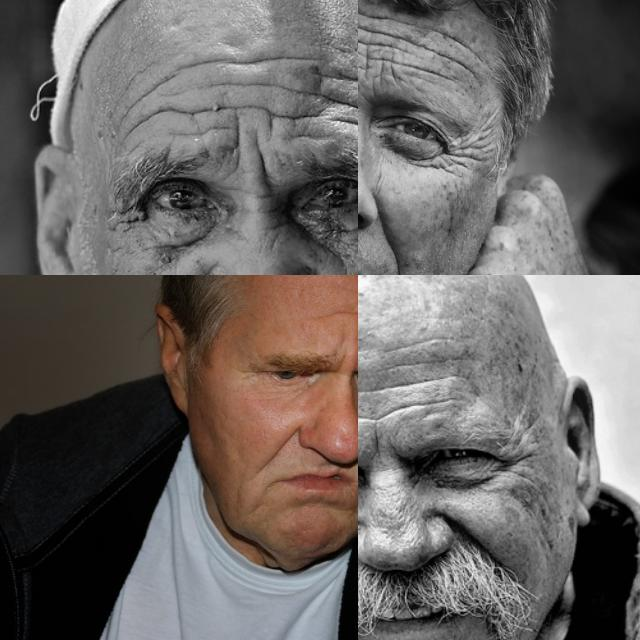bunny_line: (259, 220, 283, 254)
crows_feet: (443, 135, 473, 175), (110, 194, 144, 228), (495, 446, 529, 474)
forehead: (245, 88, 325, 134), (175, 89, 237, 138), (123, 74, 169, 140), (358, 398, 445, 422), (358, 374, 460, 394), (379, 352, 476, 372), (388, 56, 438, 88), (335, 79, 358, 134), (390, 329, 452, 349), (368, 19, 414, 45), (422, 38, 458, 68), (440, 22, 472, 50), (358, 45, 380, 81), (330, 303, 358, 324)
frown_line: (252, 142, 276, 198), (366, 430, 386, 462), (349, 345, 358, 377)
gummy_smile: (372, 214, 406, 270), (264, 422, 300, 466), (446, 512, 494, 542)
